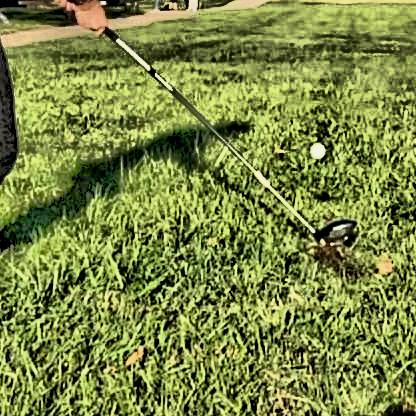golfball: (306, 140, 321, 157)
